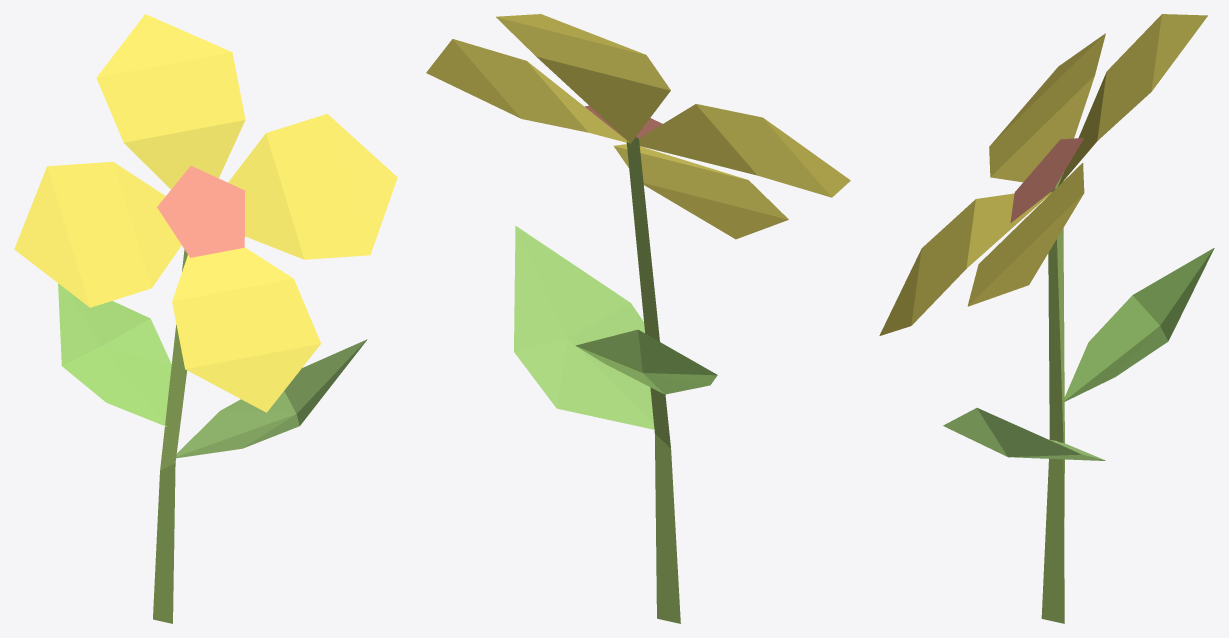
The model's file is Flower_d_TwoS_08.fbx.
3 renders of one model, left to right at view 1: azimuth 30°, elevation 25°; view 2: azimuth 150°, elevation 25°; view 3: azimuth 270°, elevation 25°, orthographic. The views are drawn at different scales.
Visible parts, largest first — view 1: Flower_d_TwoS_08; view 2: Flower_d_TwoS_08; view 3: Flower_d_TwoS_08.
Boxes of the visible parts, x1,y1,x2,y2 form: Flower_d_TwoS_08: [14, 14, 397, 623]; Flower_d_TwoS_08: [426, 14, 850, 623]; Flower_d_TwoS_08: [879, 14, 1214, 623].
Bounding box in the file's own units: 0.2563 × 0.3609 × 0.1746.
